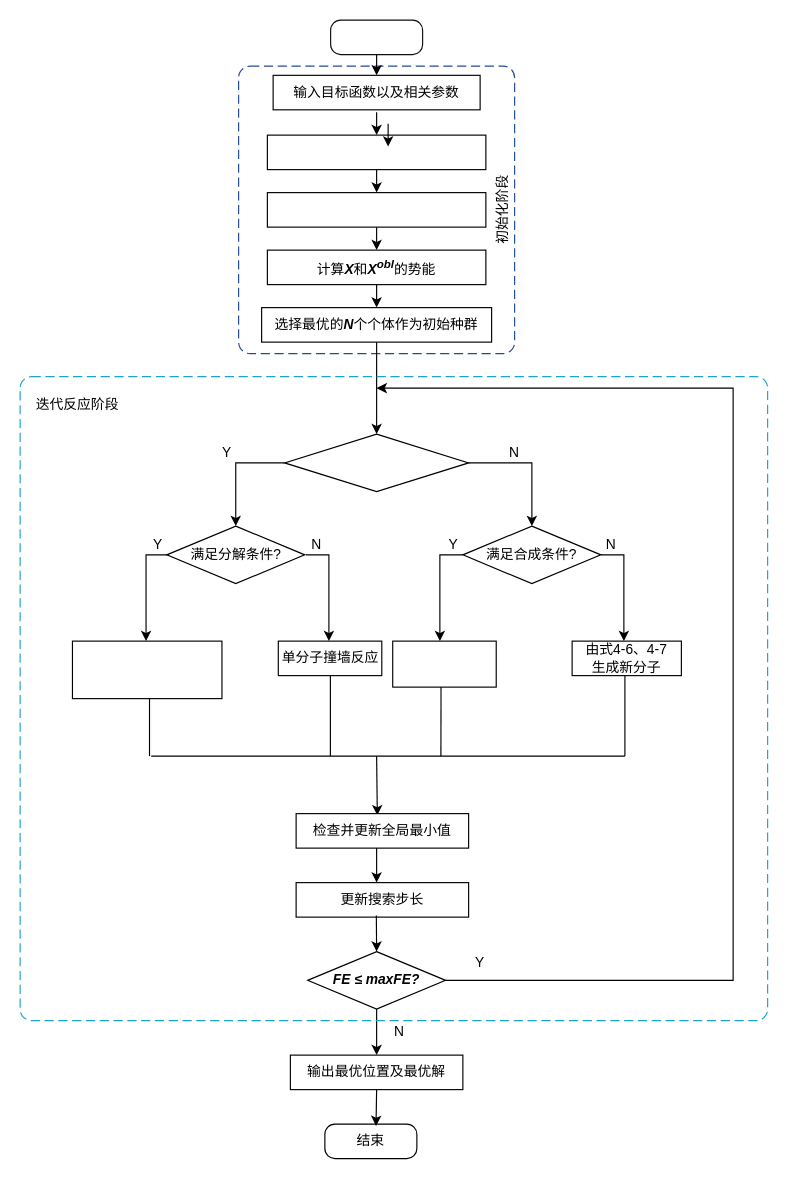
This 788x1179 diagram has some shape labels left out. The centre of each missing label's shape, as x and y in pixels:
rand < collRate?: point 376,462
使用黄金正弦策略生成新分子: point 444,663
开始: point 376,37
由式4-1生成混沌种群 X: point 376,152
由式4-2生成准反向种群 X obl: point 376,209
随机选择一个切割点对分子进行切割，对两个子向量分别加上随机值: point 146,669
